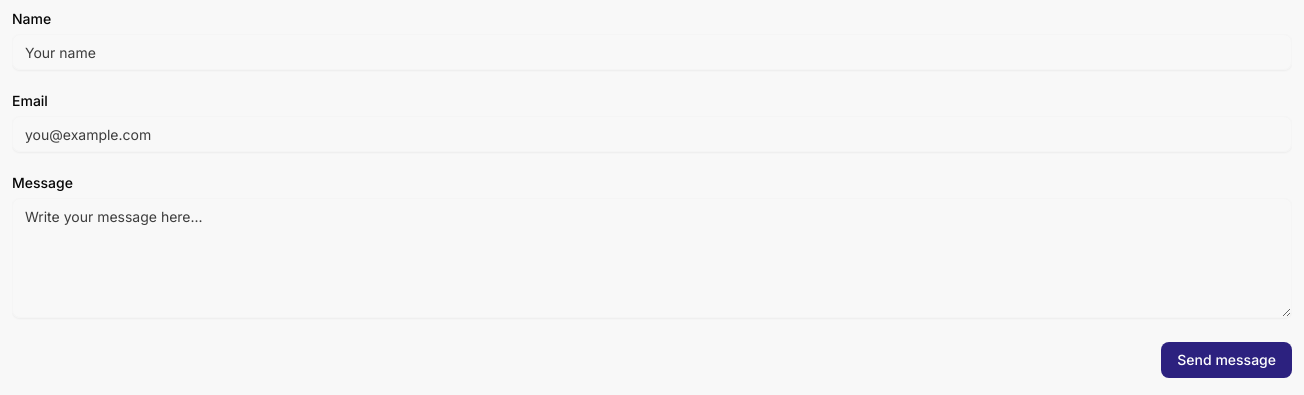
ExampleForm › shows success state after submission
Type "Jane Doe" into the field labelled "Name" at (652, 52), box x1=12 y1=34 x2=1292 y2=70
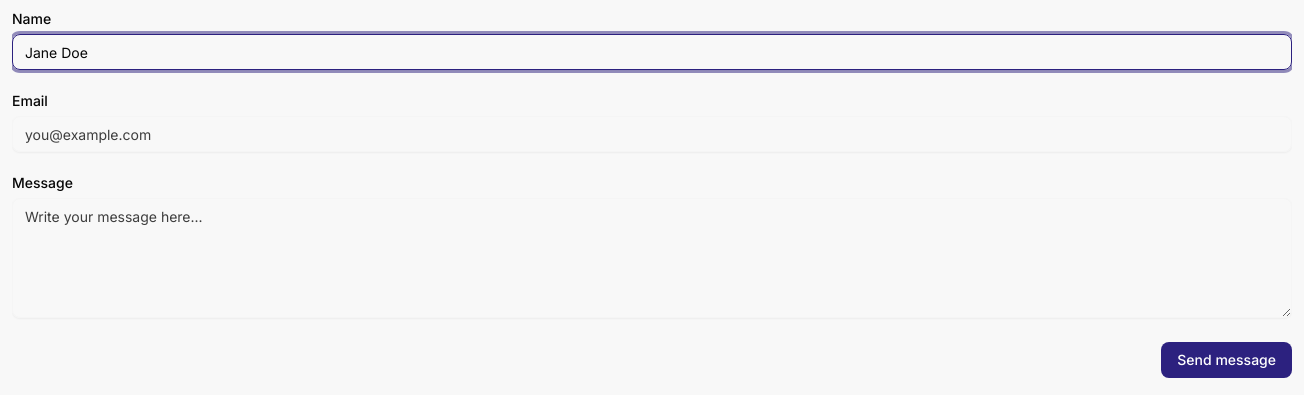
Type "jane@example.com" into the field labelled "Email" at (652, 134), box x1=12 y1=116 x2=1292 y2=152
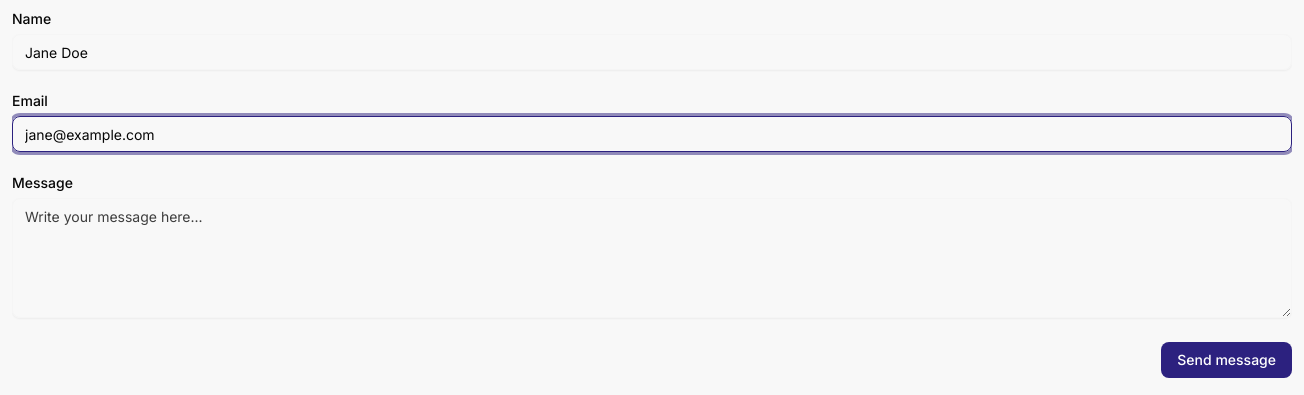
Type "This is a test message that is long enough" into the text box labelled "Message" at (652, 258), box x1=12 y1=198 x2=1292 y2=318
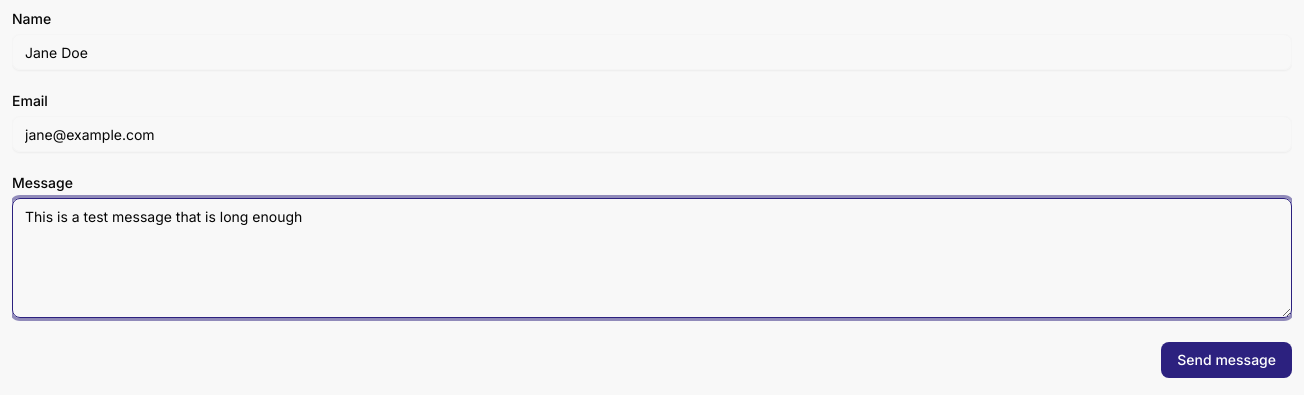
Click the button "Send message" at (1227, 360), box x1=1161 y1=342 x2=1292 y2=378
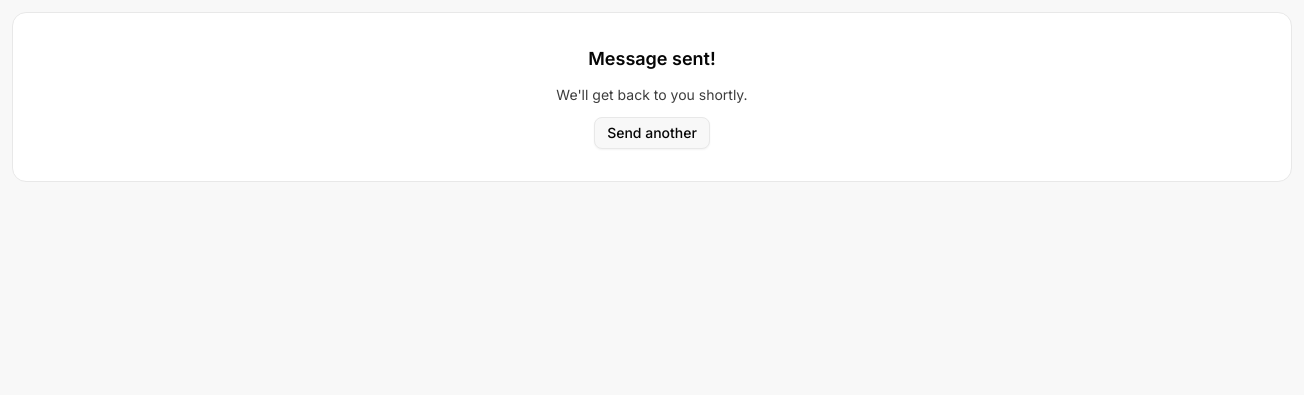
Check: the message "Message sent! We'll get back to you shortly. Send another" is shown, box x1=12 y1=12 x2=1292 y2=182
Check: the text "Message sent!" is shown, box x1=588 y1=45 x2=716 y2=73
Check: the button "Send another" is shown, box x1=594 y1=117 x2=710 y2=149
